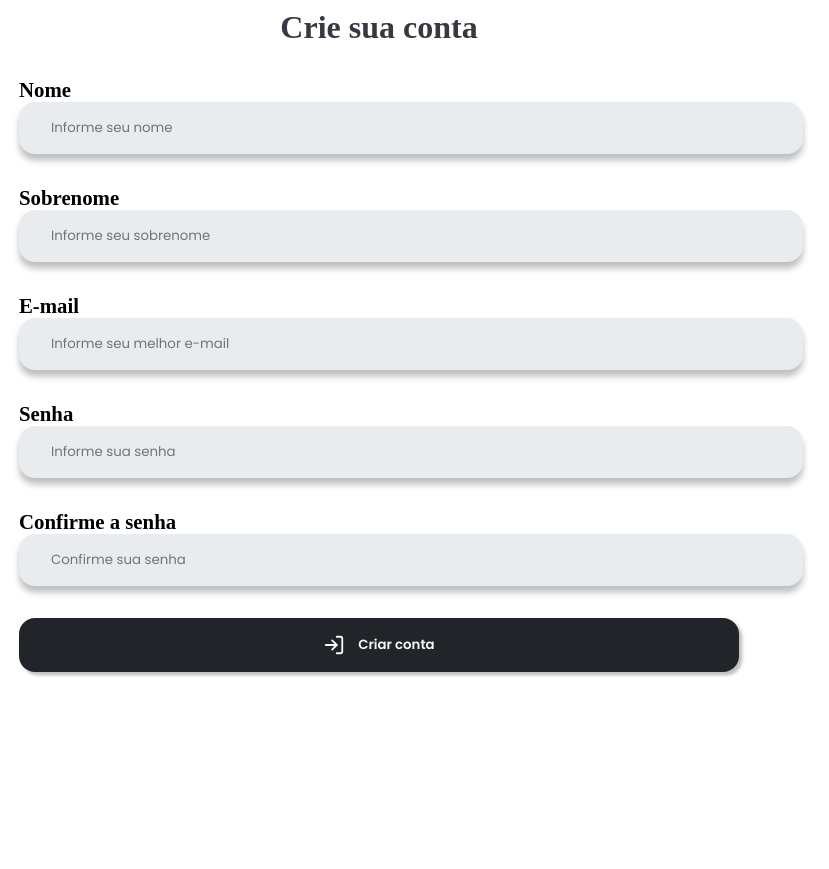
Test: Sign Up › should show error when password and password confirmation are different
This screenshot has width=829, height=869.
Type "123456" into the password field with placeholder "Informe sua senha" at (411, 452), box [19,426,803,478]
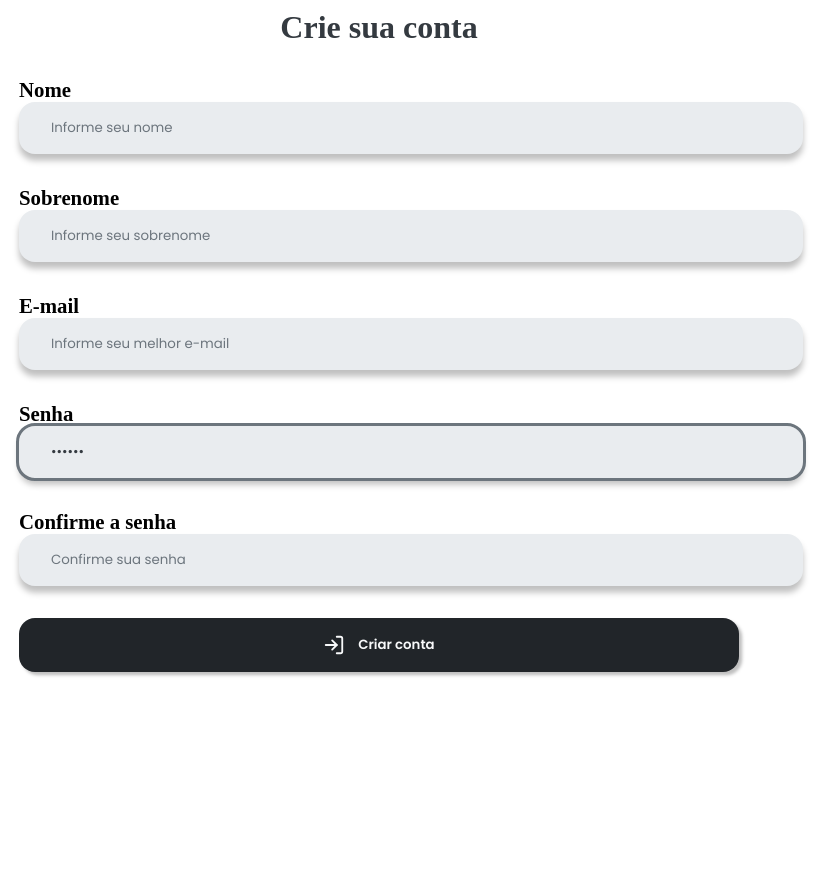
Type "12345678" into the password field with placeholder "Confirme sua senha" at (411, 560), box [19,534,803,586]
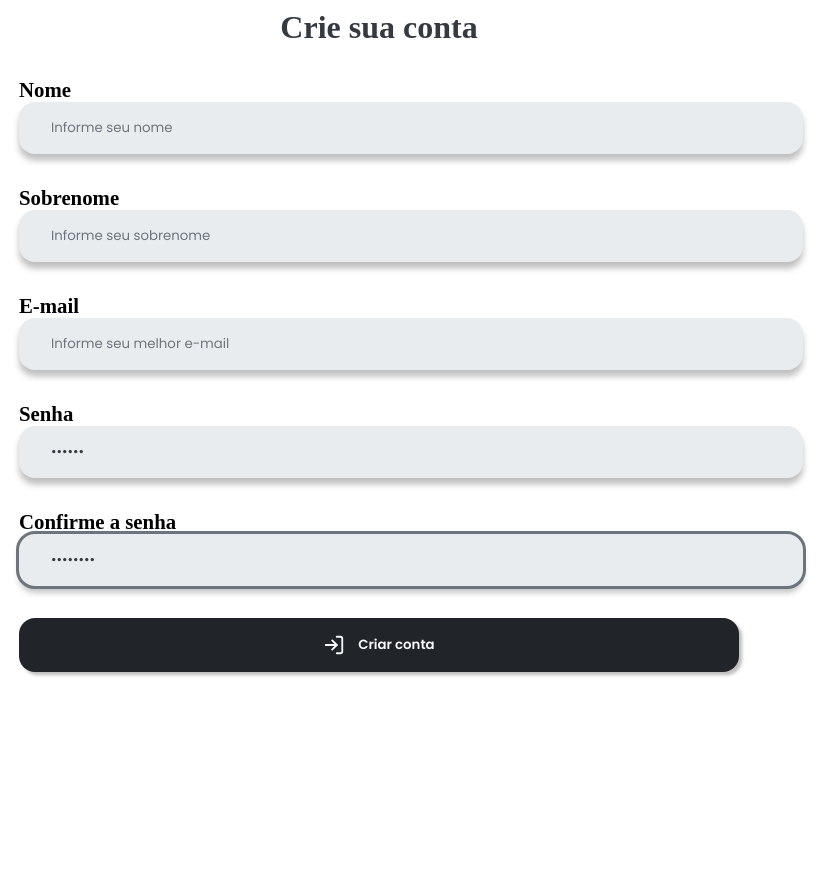
Click the button "Criar conta" at (379, 645), box [19,618,739,672]
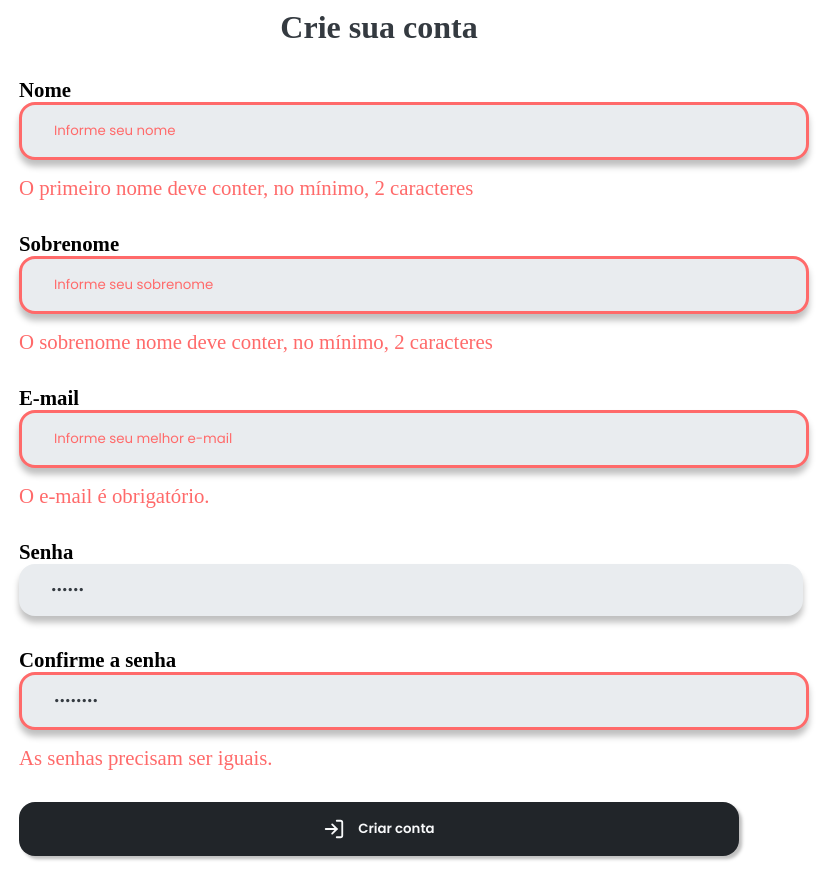
Now the text "As senhas precisam ser iguais." is shown, box [19,746,272,769]
